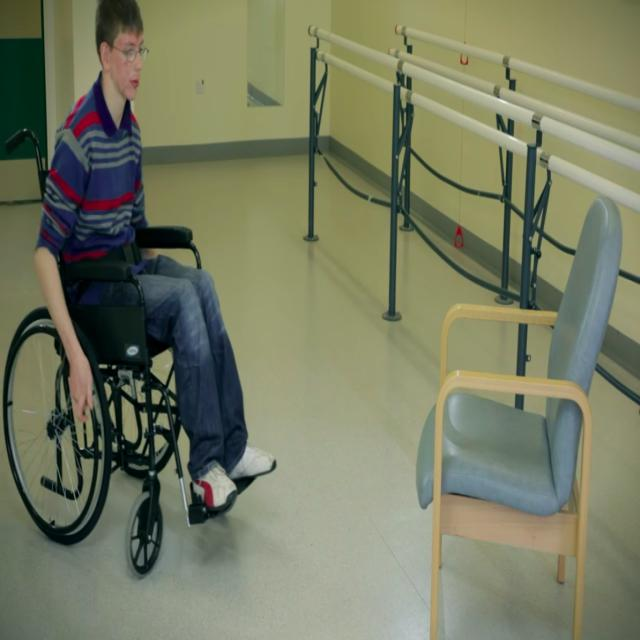wheelchairs: (6, 126, 260, 566)
